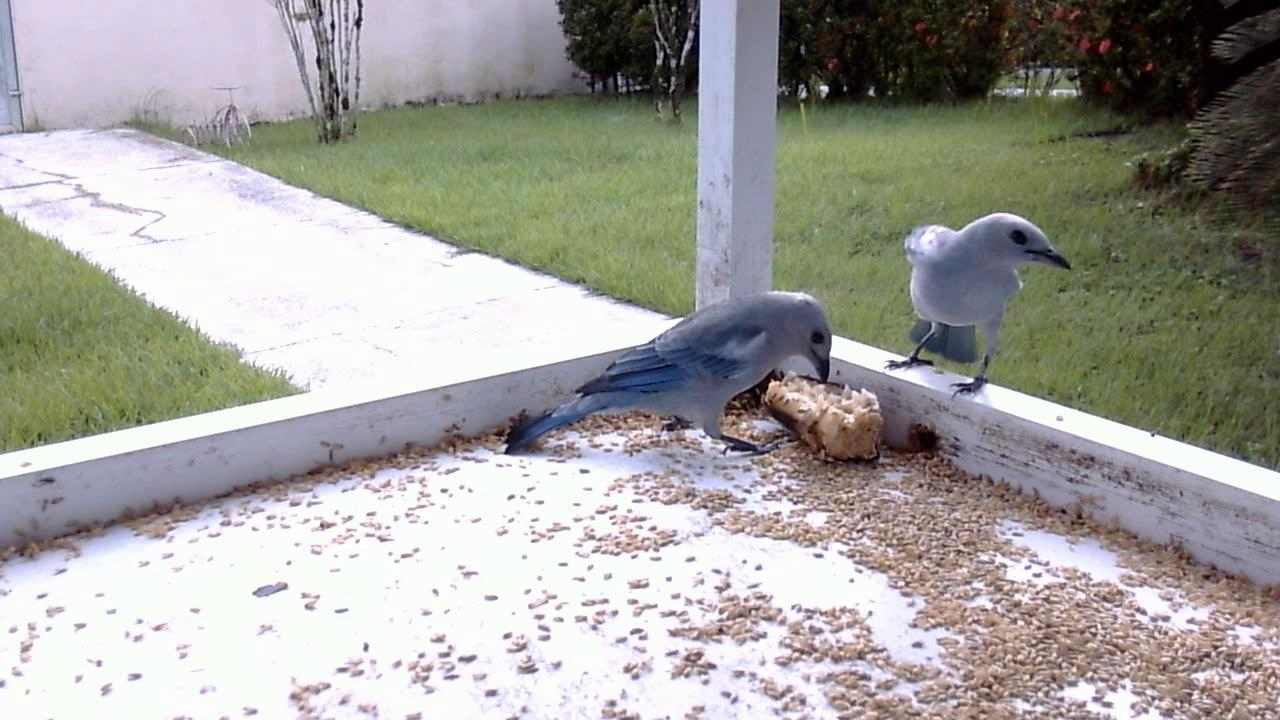sanhaco_da_amazonia: (501, 288, 835, 464), (881, 207, 1068, 403)
